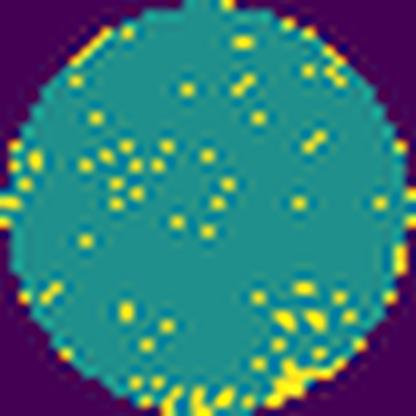Edge-Loc: (260, 346, 352, 406)
